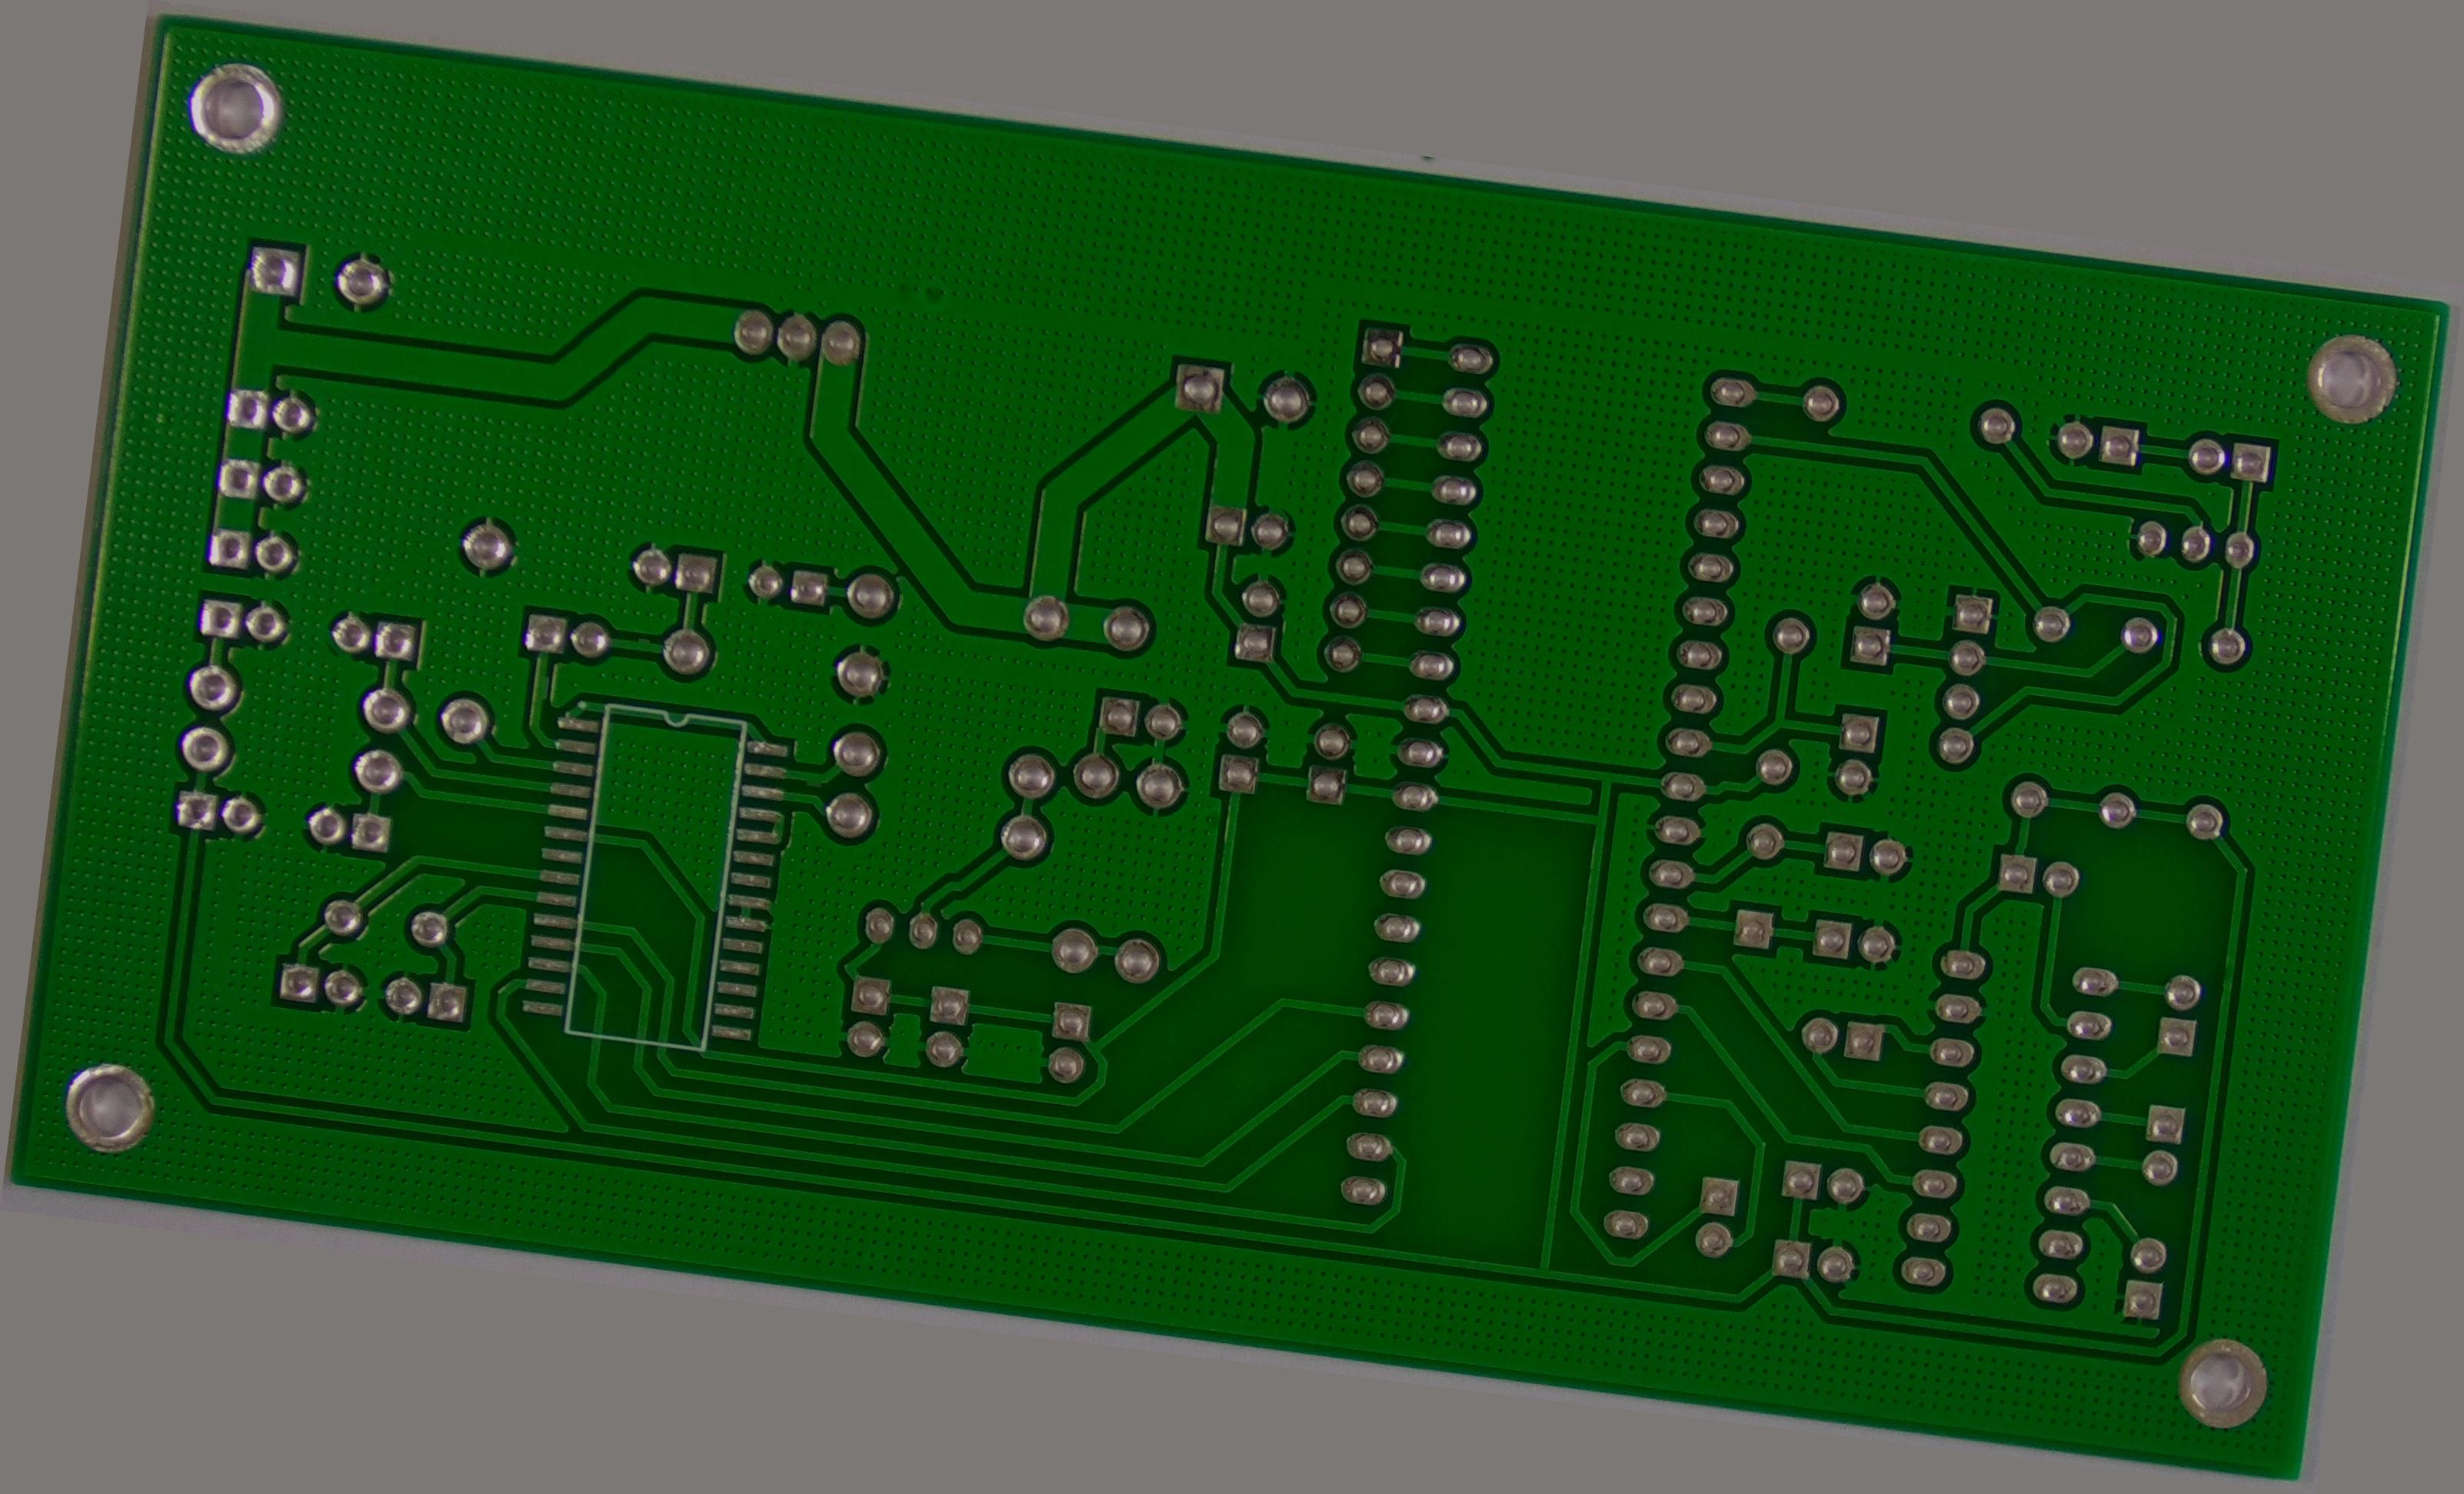spur: (524, 665, 558, 704), (794, 764, 832, 797), (625, 632, 662, 658)
